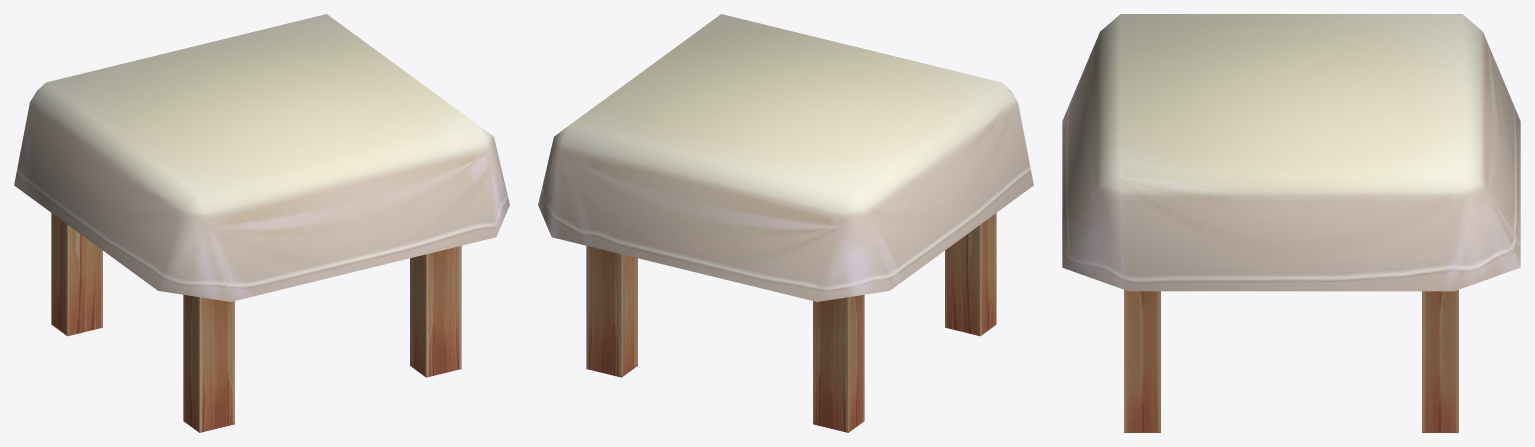
File: SE_Table_01b_SM.FBX
The picture shows the model from 3 angles, left to right: view 1: azimuth 30°, elevation 25°; view 2: azimuth 150°, elevation 25°; view 3: azimuth 270°, elevation 25°; orthographic projection. The views are drawn at different scales.
Visible parts, largest first — view 1: SE_Table_01b_SM_LOD0; view 2: SE_Table_01b_SM_LOD0; view 3: SE_Table_01b_SM_LOD0.
Part boxes in pixels (x1,y1,x2,y2): SE_Table_01b_SM_LOD0: (14, 14, 509, 432); SE_Table_01b_SM_LOD0: (538, 14, 1033, 432); SE_Table_01b_SM_LOD0: (1062, 14, 1520, 432).
Size of what is drawn, in the model's own units: 256 by 256 by 168.
